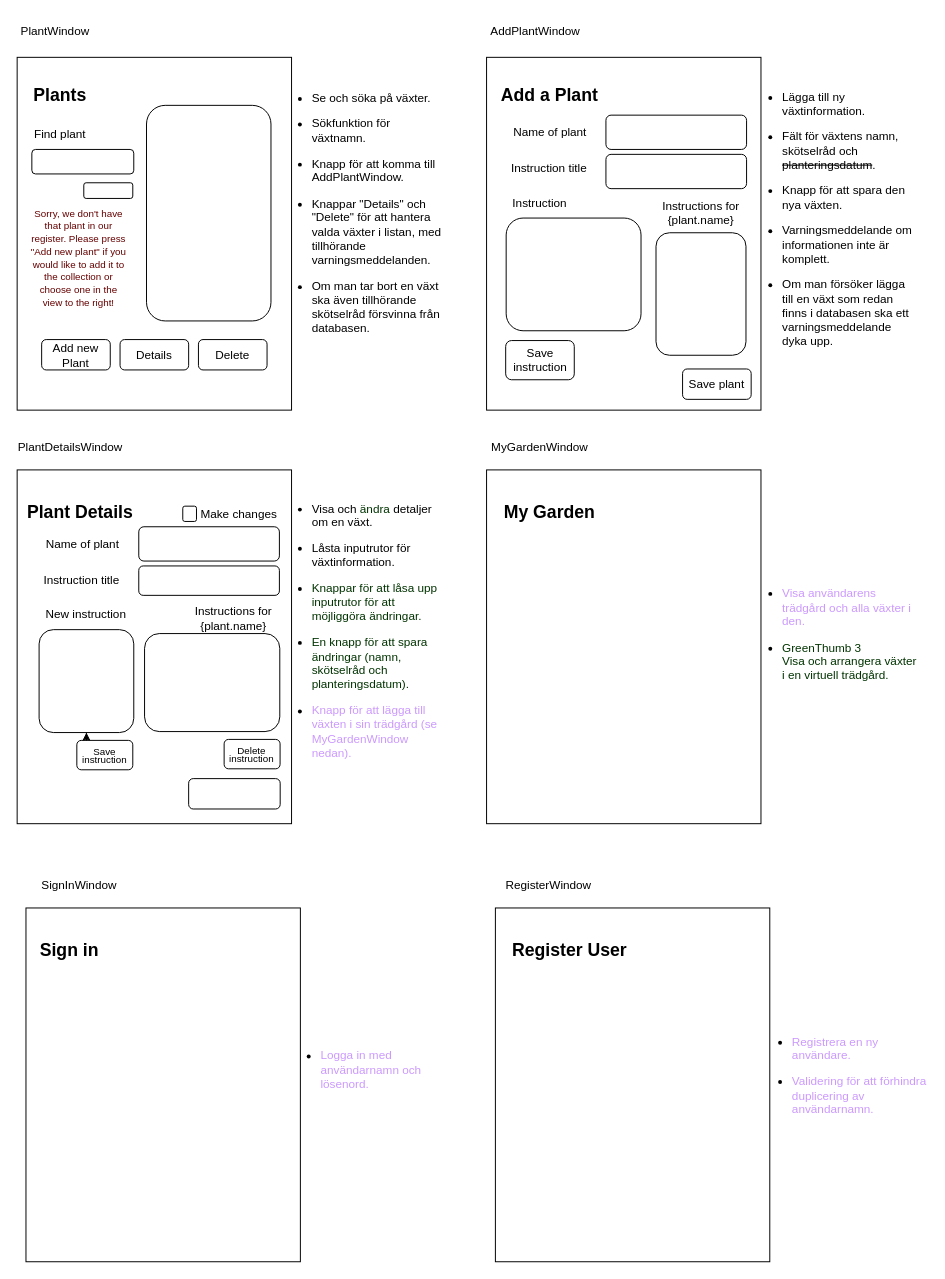
Image size: 945x1279. Some labels were removed from this diagram. The shapes that lost their labels are listed below. From the top down, each one's centre as x and y in pixels, then its label:
(x=108, y=190): Search
(x=234, y=793): Save changes
